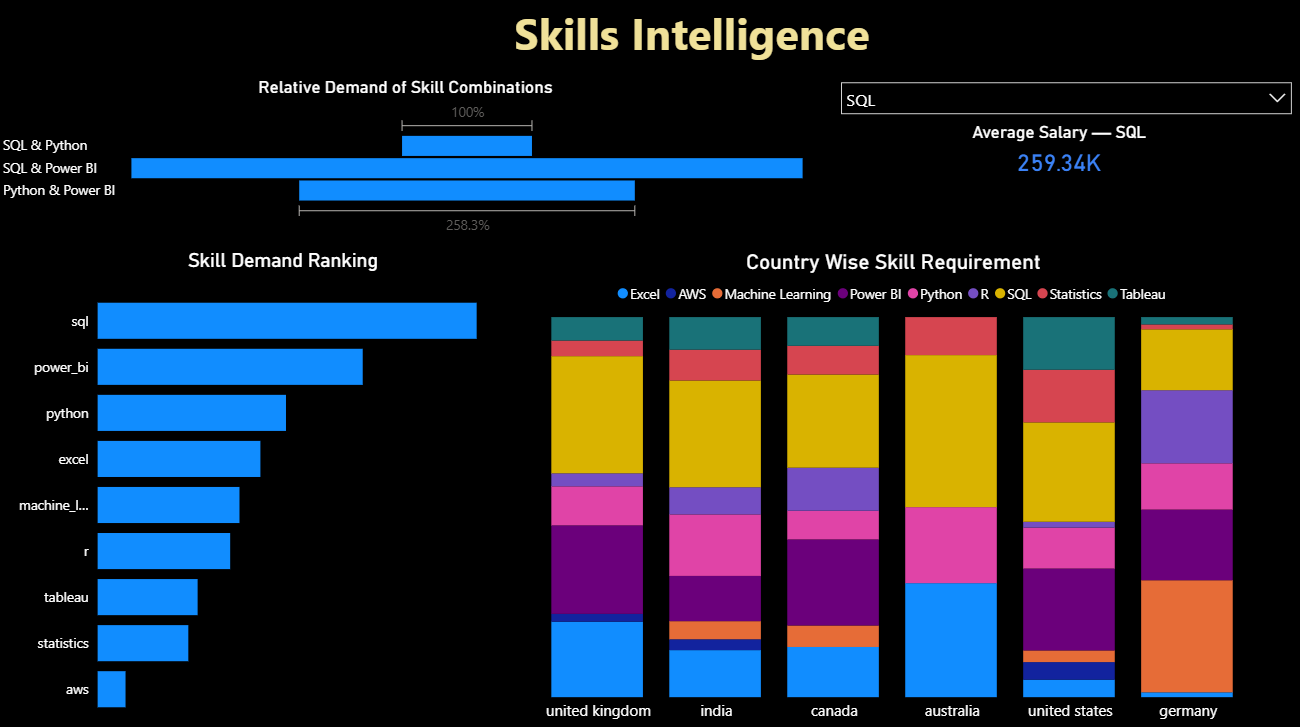

Layout of this report page (visuals, bound fields, positions):
{"tool":"powerbi","page":{"name":"Skills Intelligence","canvas":[1280,720],"ordinal":1},"visuals":[{"type":"slicer","fields":{"Values":["Skill Selector.Skill"]},"box":[817.2,72.4,462.6,47.9],"z":0},{"type":"card","fields":{"Values":["job_market jobs_clean.Selected Skill Avg Salary"]},"box":[817.2,121.5,449.1,60.1],"z":1000},{"type":"textbox","box":[502.1,0,467.5,72.1],"z":2000},{"type":"barChart","title":"Skill Demand Ranking","fields":{"Category":["job_market skill_demand_summary.skill"],"Y":["Sum(job_market skill_demand_summary.job_count)"]},"box":[0,246.6,559.5,473.6],"z":3000},{"type":"hundredPercentStackedColumnChart","title":"Country Wise Skill Requirement","fields":{"Category":["job_market jobs_clean.country"],"Y":["Sum(job_market jobs_clean.has_excel)","Sum(job_market jobs_clean.has_aws)","Sum(job_market jobs_clean.has_machine_learning)","Sum(job_market jobs_clean.has_power_bi)","Sum(job_market jobs_clean.has_python)","Sum(job_market jobs_clean.has_r)","Sum(job_market jobs_clean.has_sql)","Sum(job_market jobs_clean.has_statistics)","Sum(job_market jobs_clean.has_tableau)"]},"box":[492,246.6,774.2,473.6],"z":4000},{"type":"funnel","title":"Relative Demand of  Skill Combinations","fields":{"Y":["Sum(job_market jobs_clean.SQL_Python)","Sum(job_market jobs_clean.SQL_PowerBI)","Sum(job_market jobs_clean.Python_PowerBI)"]},"box":[0,77.3,800,160.7],"z":5000}]}

Visuals, with their boxes in screenshot pixels (x1, y1, x2, y2), scaled from the page's 1280x720 canvas onto the 1300x727 screenshot:
slicer - Skill Selector.Skill: locate(830, 73, 1299, 121)
card - job_market jobs_clean.Selected Skill Avg Salary: locate(830, 123, 1286, 183)
textbox: locate(510, 0, 985, 73)
"Skill Demand Ranking" barChart: locate(0, 249, 568, 726)
"Country Wise Skill Requirement" hundredPercentStackedColumnChart: locate(500, 249, 1286, 726)
"Relative Demand of  Skill Combinations" funnel: locate(0, 78, 812, 240)
